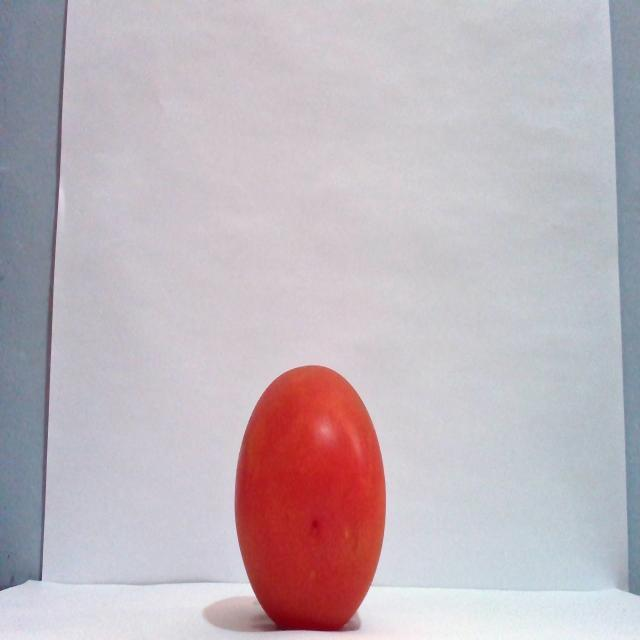Red: (232, 363, 387, 630)
